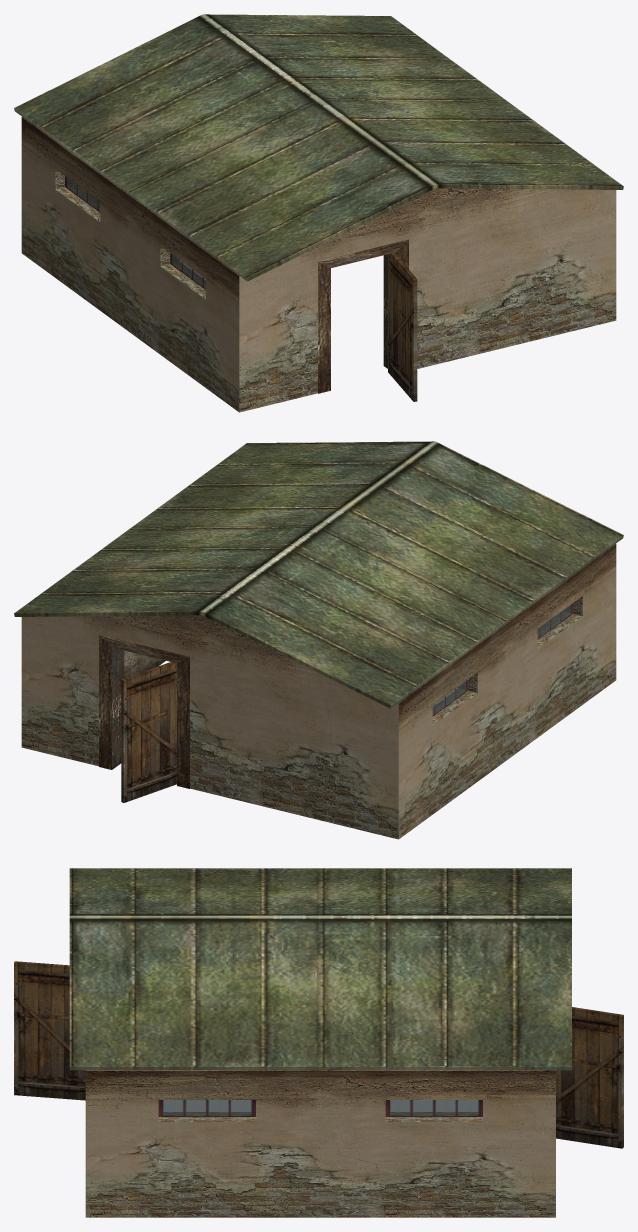
Rendered from wood_shed.glb.
3 renders of one model, top to bottom at view 1: azimuth 30°, elevation 25°; view 2: azimuth 150°, elevation 25°; view 3: azimuth 270°, elevation 25°, orthographic. The views are drawn at different scales.
Parts seen in each view (by area): view 1: wood_shed; view 2: wood_shed; view 3: wood_shed.
Part boxes in pixels (x1=…): wood_shed: x1=14, y1=14, x2=623, y2=412; wood_shed: x1=14, y1=441, x2=623, y2=839; wood_shed: x1=14, y1=868, x2=623, y2=1217.
Size of the model in its own units: 5.71 by 2.71 by 7.41.
Materials: 8 (8 with a texture image).
